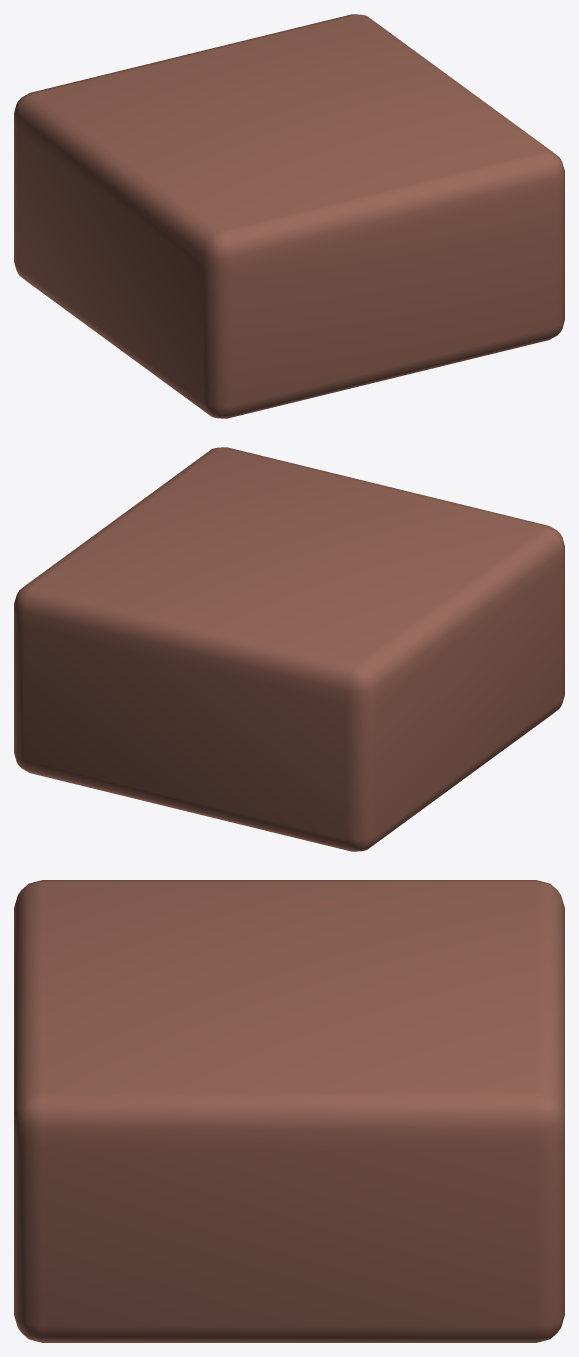
The model's file is NewTile2.fbx.
The picture shows the model from 3 angles, top to bottom: view 1: azimuth 30°, elevation 25°; view 2: azimuth 150°, elevation 25°; view 3: azimuth 270°, elevation 25°; orthographic projection. The views are drawn at different scales.
Parts seen in each view (by area): view 1: Cube; view 2: Cube; view 3: Cube.
Boxes of the visible parts, x1=… form: Cube: x1=14, y1=14, x2=564, y2=418; Cube: x1=14, y1=447, x2=564, y2=851; Cube: x1=14, y1=880, x2=564, y2=1342.
Size of the model in its own units: 2 by 0.9953 by 2.
